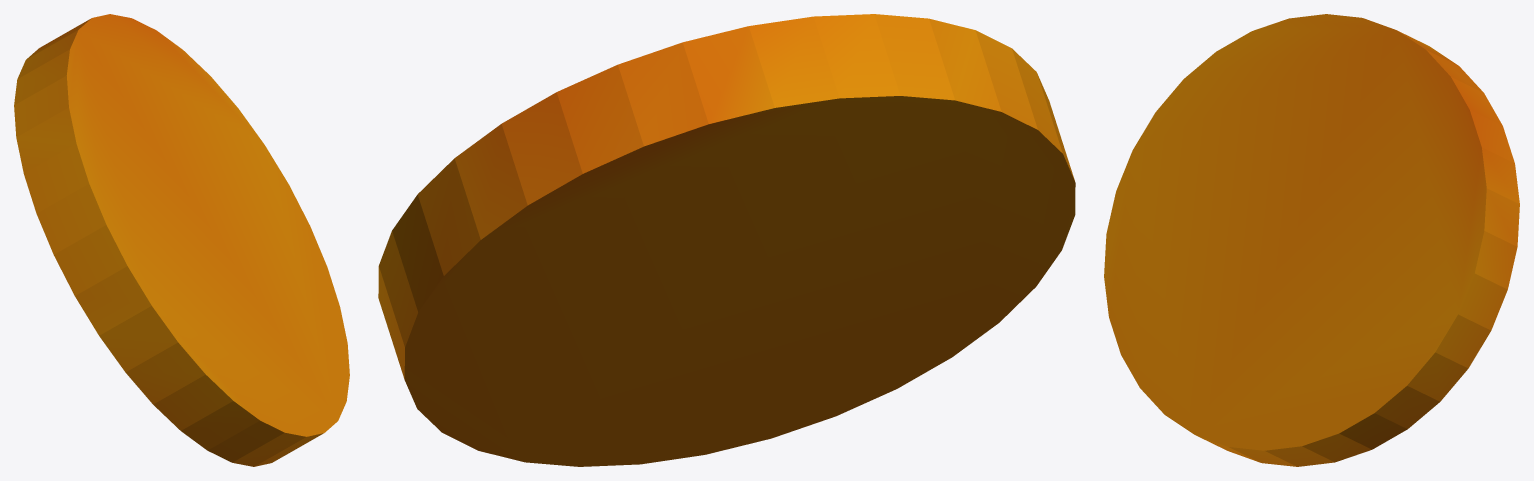
Rendered from coin.fbx.
3 views of the same model, side by side, from view 1: azimuth 30°, elevation 25°; view 2: azimuth 150°, elevation 25°; view 3: azimuth 270°, elevation 25° (orthographic). The views are drawn at different scales.
Visible parts, largest first — view 1: Cylinder; view 2: Cylinder; view 3: Cylinder.
Part boxes in pixels (bbox=[...]): Cylinder: bbox=[14, 14, 349, 466]; Cylinder: bbox=[378, 14, 1075, 466]; Cylinder: bbox=[1104, 14, 1519, 466].
Size of the model in its own units: 77.62 by 80.03 by 82.4.
